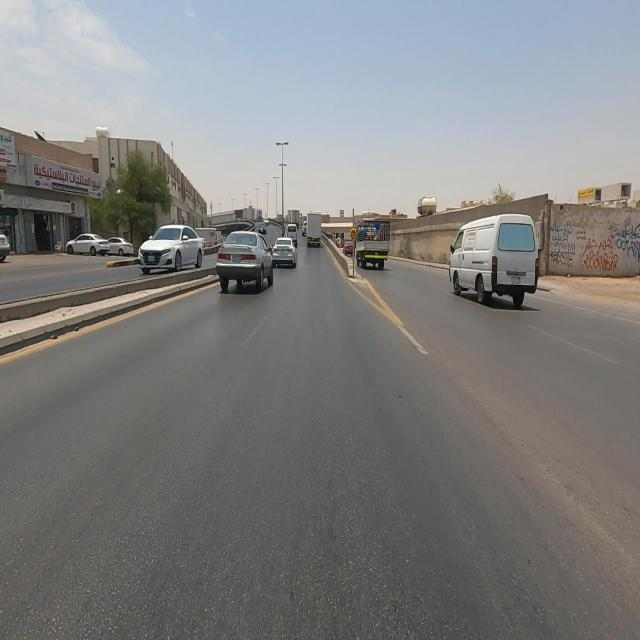Graffiti: (550, 221, 640, 277)
